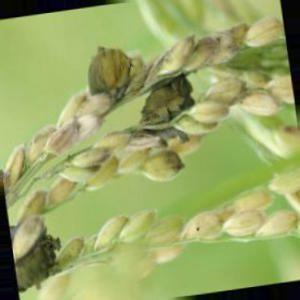Leaf_Scald: (144, 75, 198, 129), (14, 231, 57, 292), (85, 46, 134, 98)
